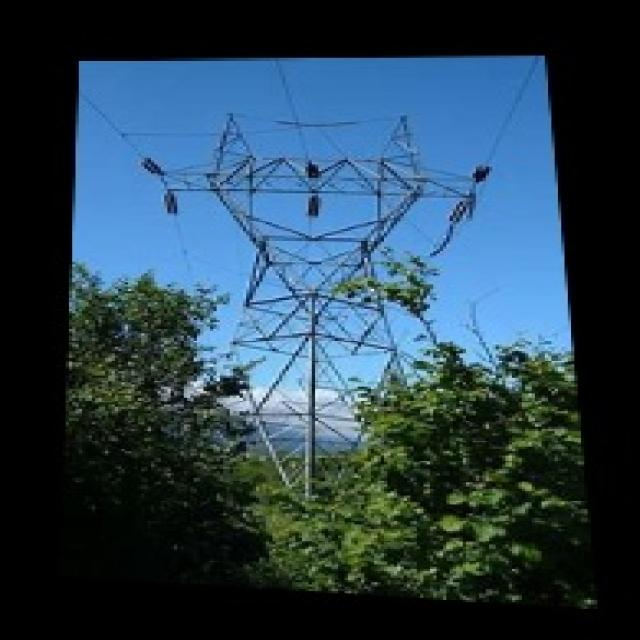utility poles: (330, 246, 515, 413), (139, 296, 285, 449)
